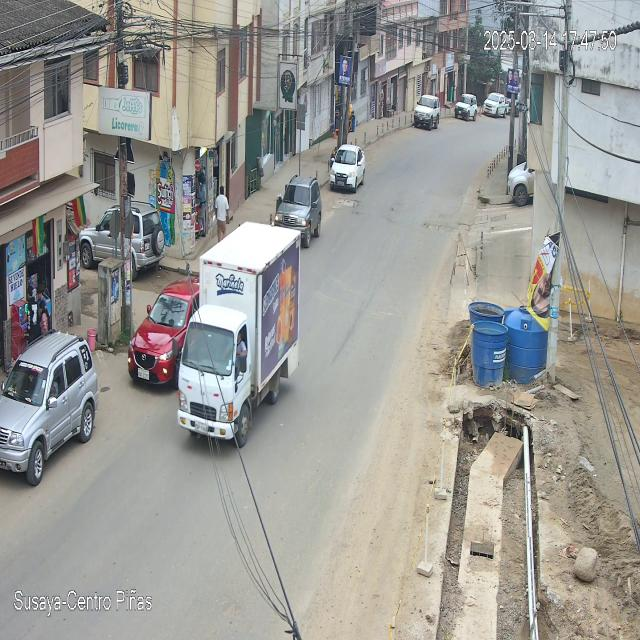SUV: (277, 173, 321, 242)
TRUCK: (178, 224, 302, 446)
